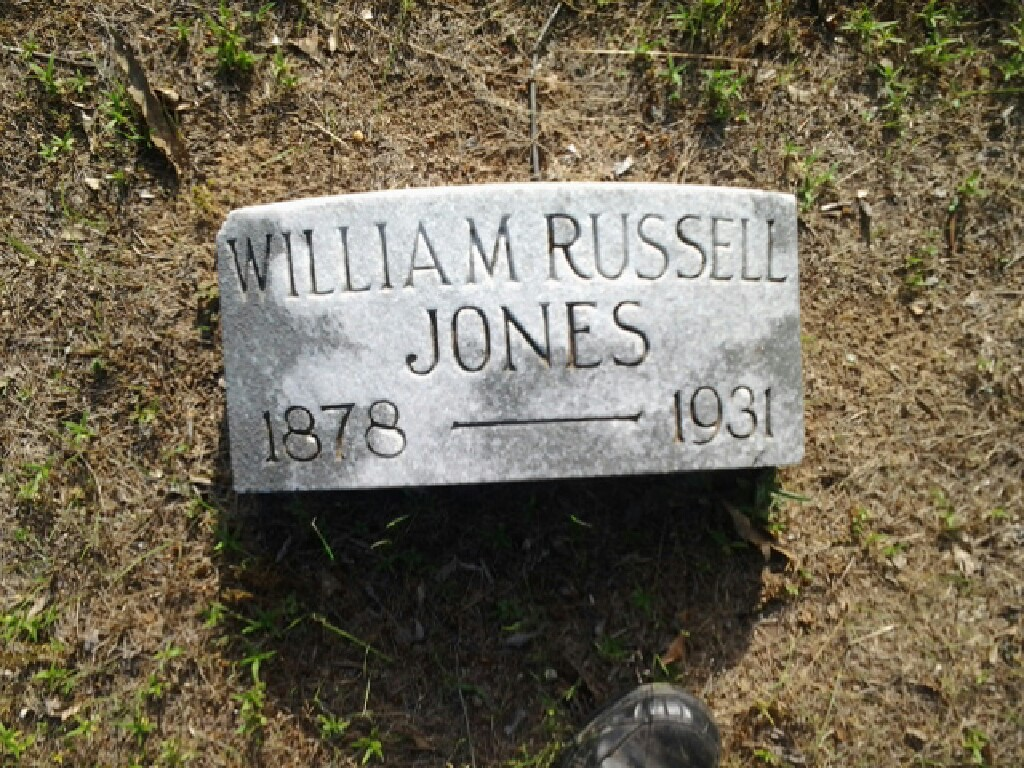flat: (214, 182, 802, 494)
